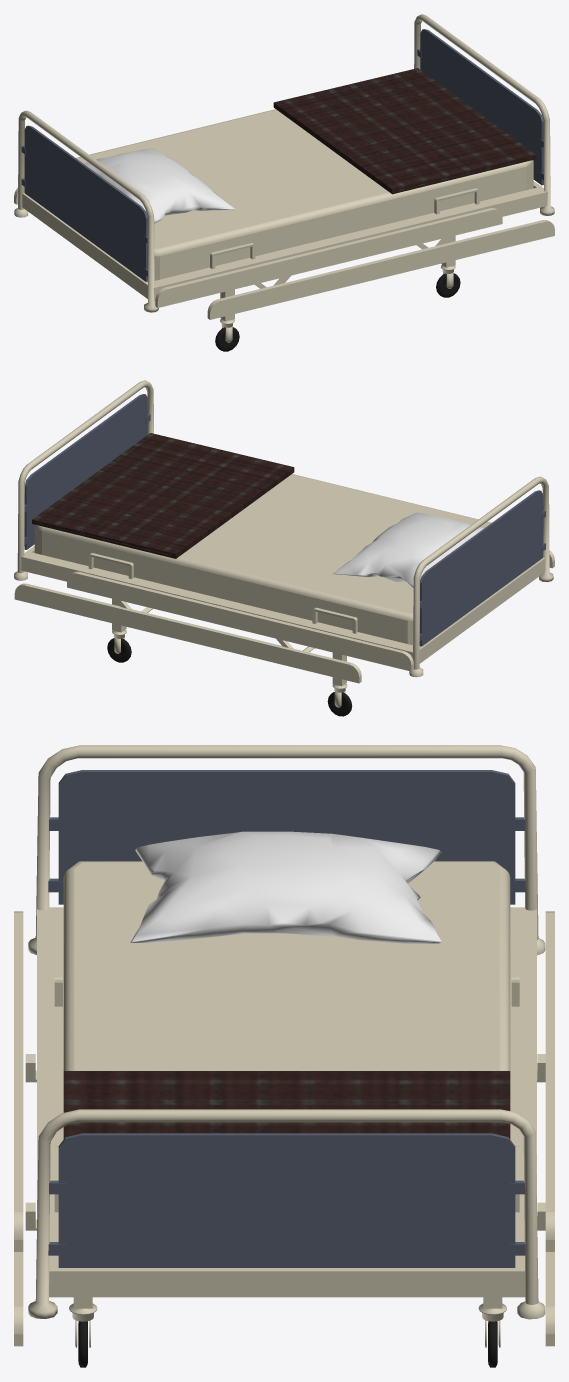
File: MedicineBed.fbx
The picture shows the model from 3 angles, top to bottom: view 1: azimuth 30°, elevation 25°; view 2: azimuth 150°, elevation 25°; view 3: azimuth 270°, elevation 25°; orthographic projection. The views are drawn at different scales.
Parts seen in each view (by area): view 1: MedicineBed; view 2: MedicineBed; view 3: MedicineBed.
Part boxes in pixels (x1,y1,x2,y2): MedicineBed: [14, 14, 554, 351]; MedicineBed: [14, 380, 554, 716]; MedicineBed: [14, 745, 554, 1367].
Bounding box in the file's own units: 213 × 89.12 × 130.
